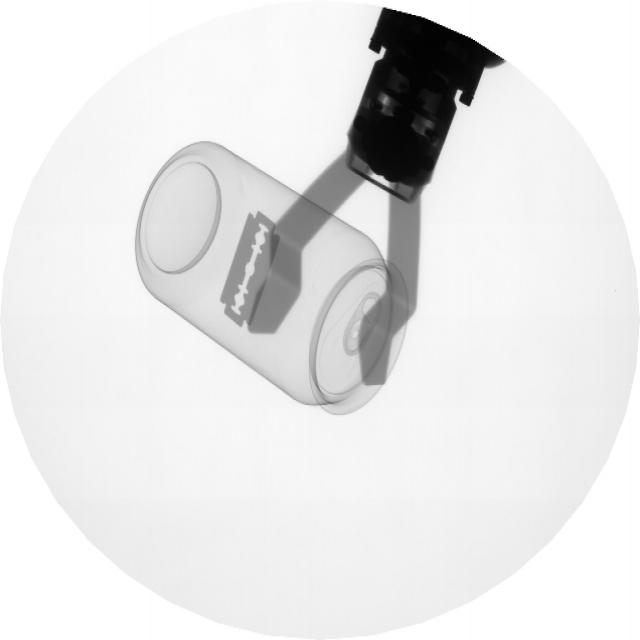BLADE: (220, 202, 286, 338)
